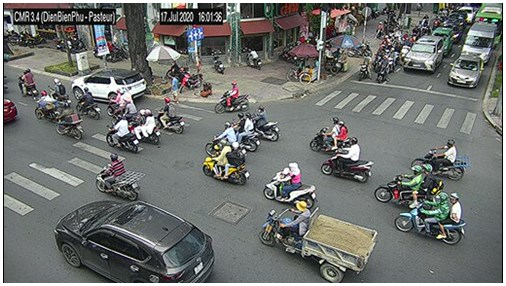xe_ba_gac: (260, 202, 377, 283)
xe_buyt: (478, 4, 502, 45)
xe_hoi: (54, 201, 214, 283), (72, 69, 147, 103), (402, 35, 444, 72), (448, 54, 484, 88), (445, 17, 462, 41)
xe_khach: (462, 22, 496, 63)
xe_may: (394, 192, 466, 246), (374, 164, 445, 204), (410, 139, 470, 181), (320, 137, 374, 183), (263, 162, 317, 208), (96, 153, 141, 201), (203, 139, 249, 185), (310, 117, 357, 153), (205, 122, 243, 156), (213, 80, 249, 114), (106, 114, 139, 151), (233, 113, 260, 153), (155, 97, 184, 134), (130, 109, 160, 144), (56, 102, 83, 140), (252, 106, 280, 141), (76, 87, 101, 119), (33, 90, 58, 119), (108, 87, 133, 114), (18, 68, 39, 97), (49, 79, 71, 105), (357, 55, 373, 82), (376, 55, 389, 84), (400, 37, 411, 62)
xe_taxi: (434, 27, 453, 49)
